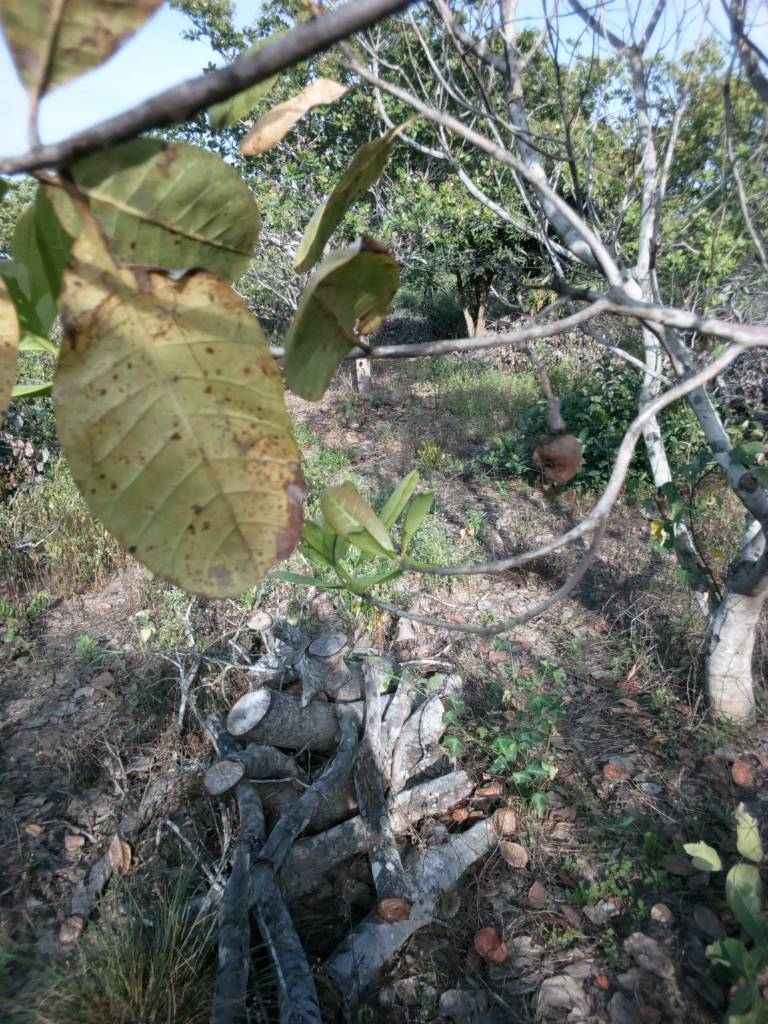Anthracnose: (55, 227, 299, 599)
